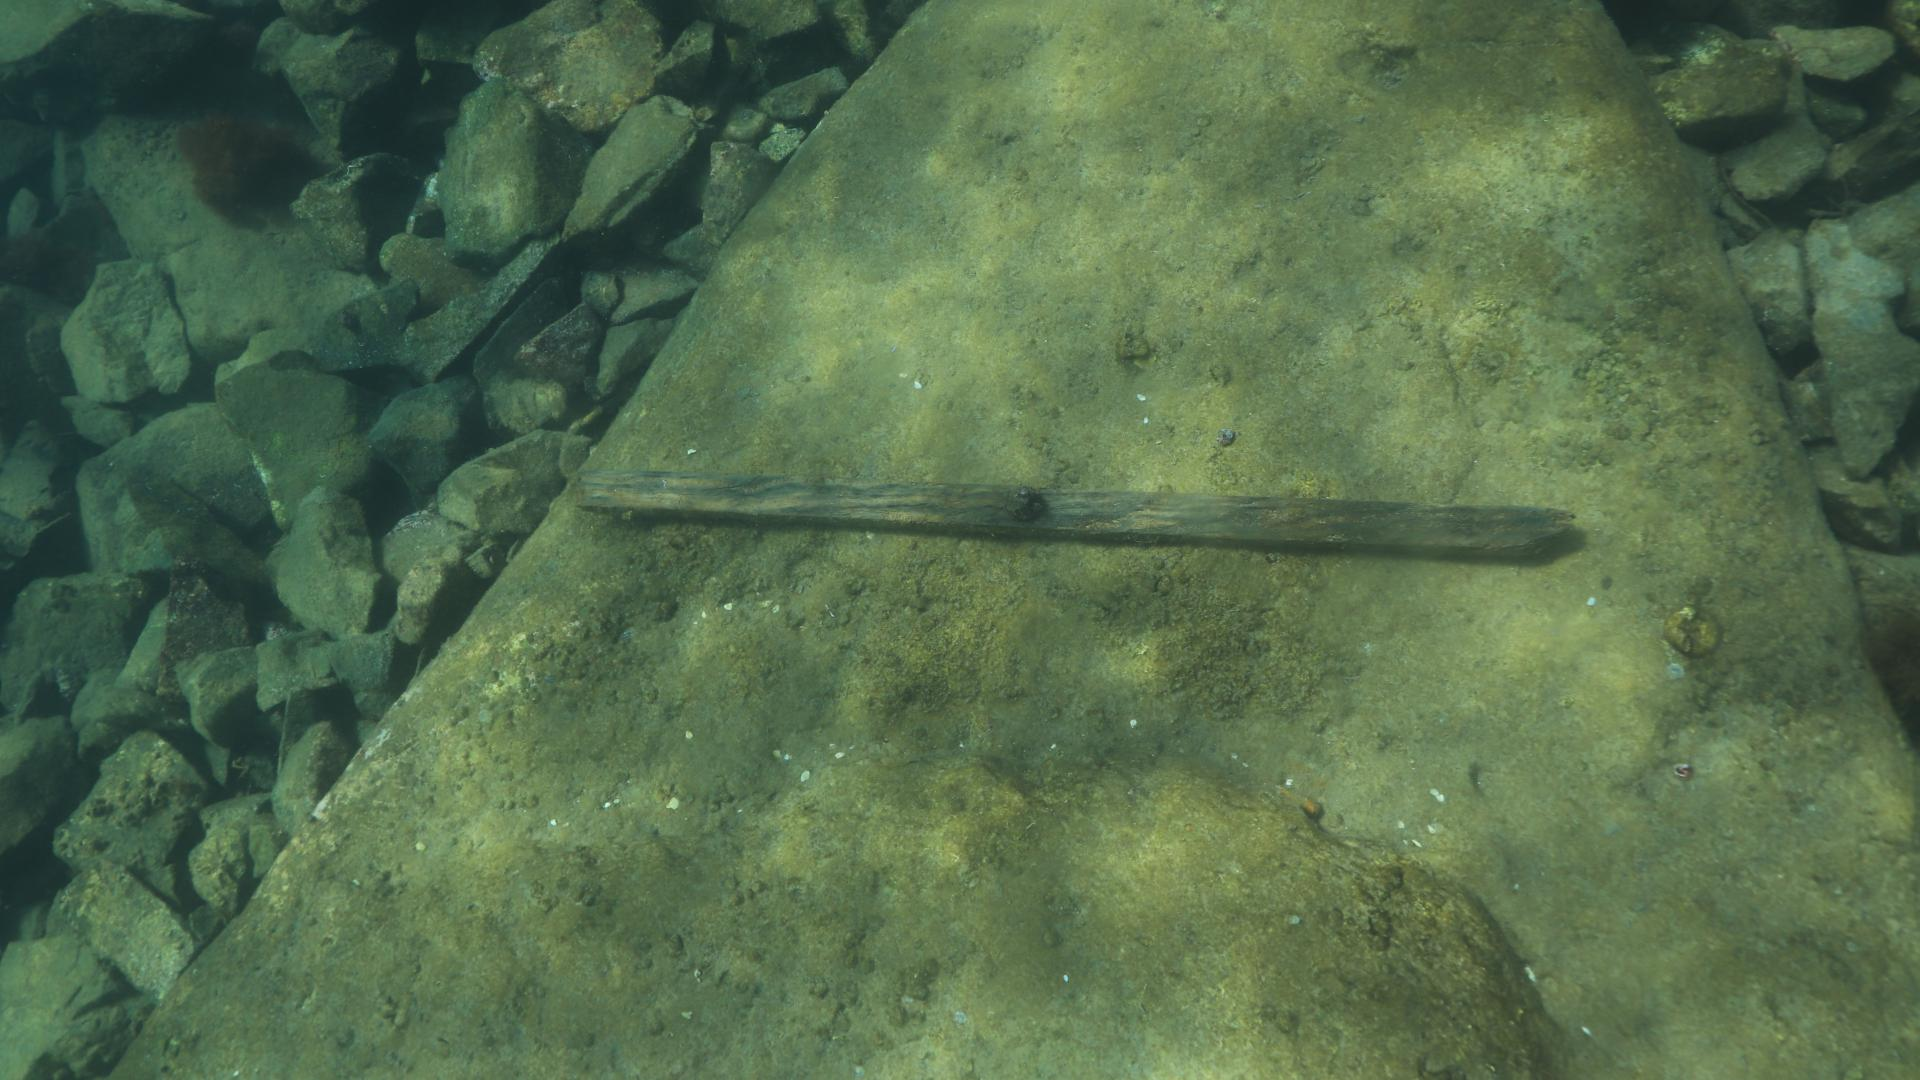wood: (572, 465, 1577, 558)
